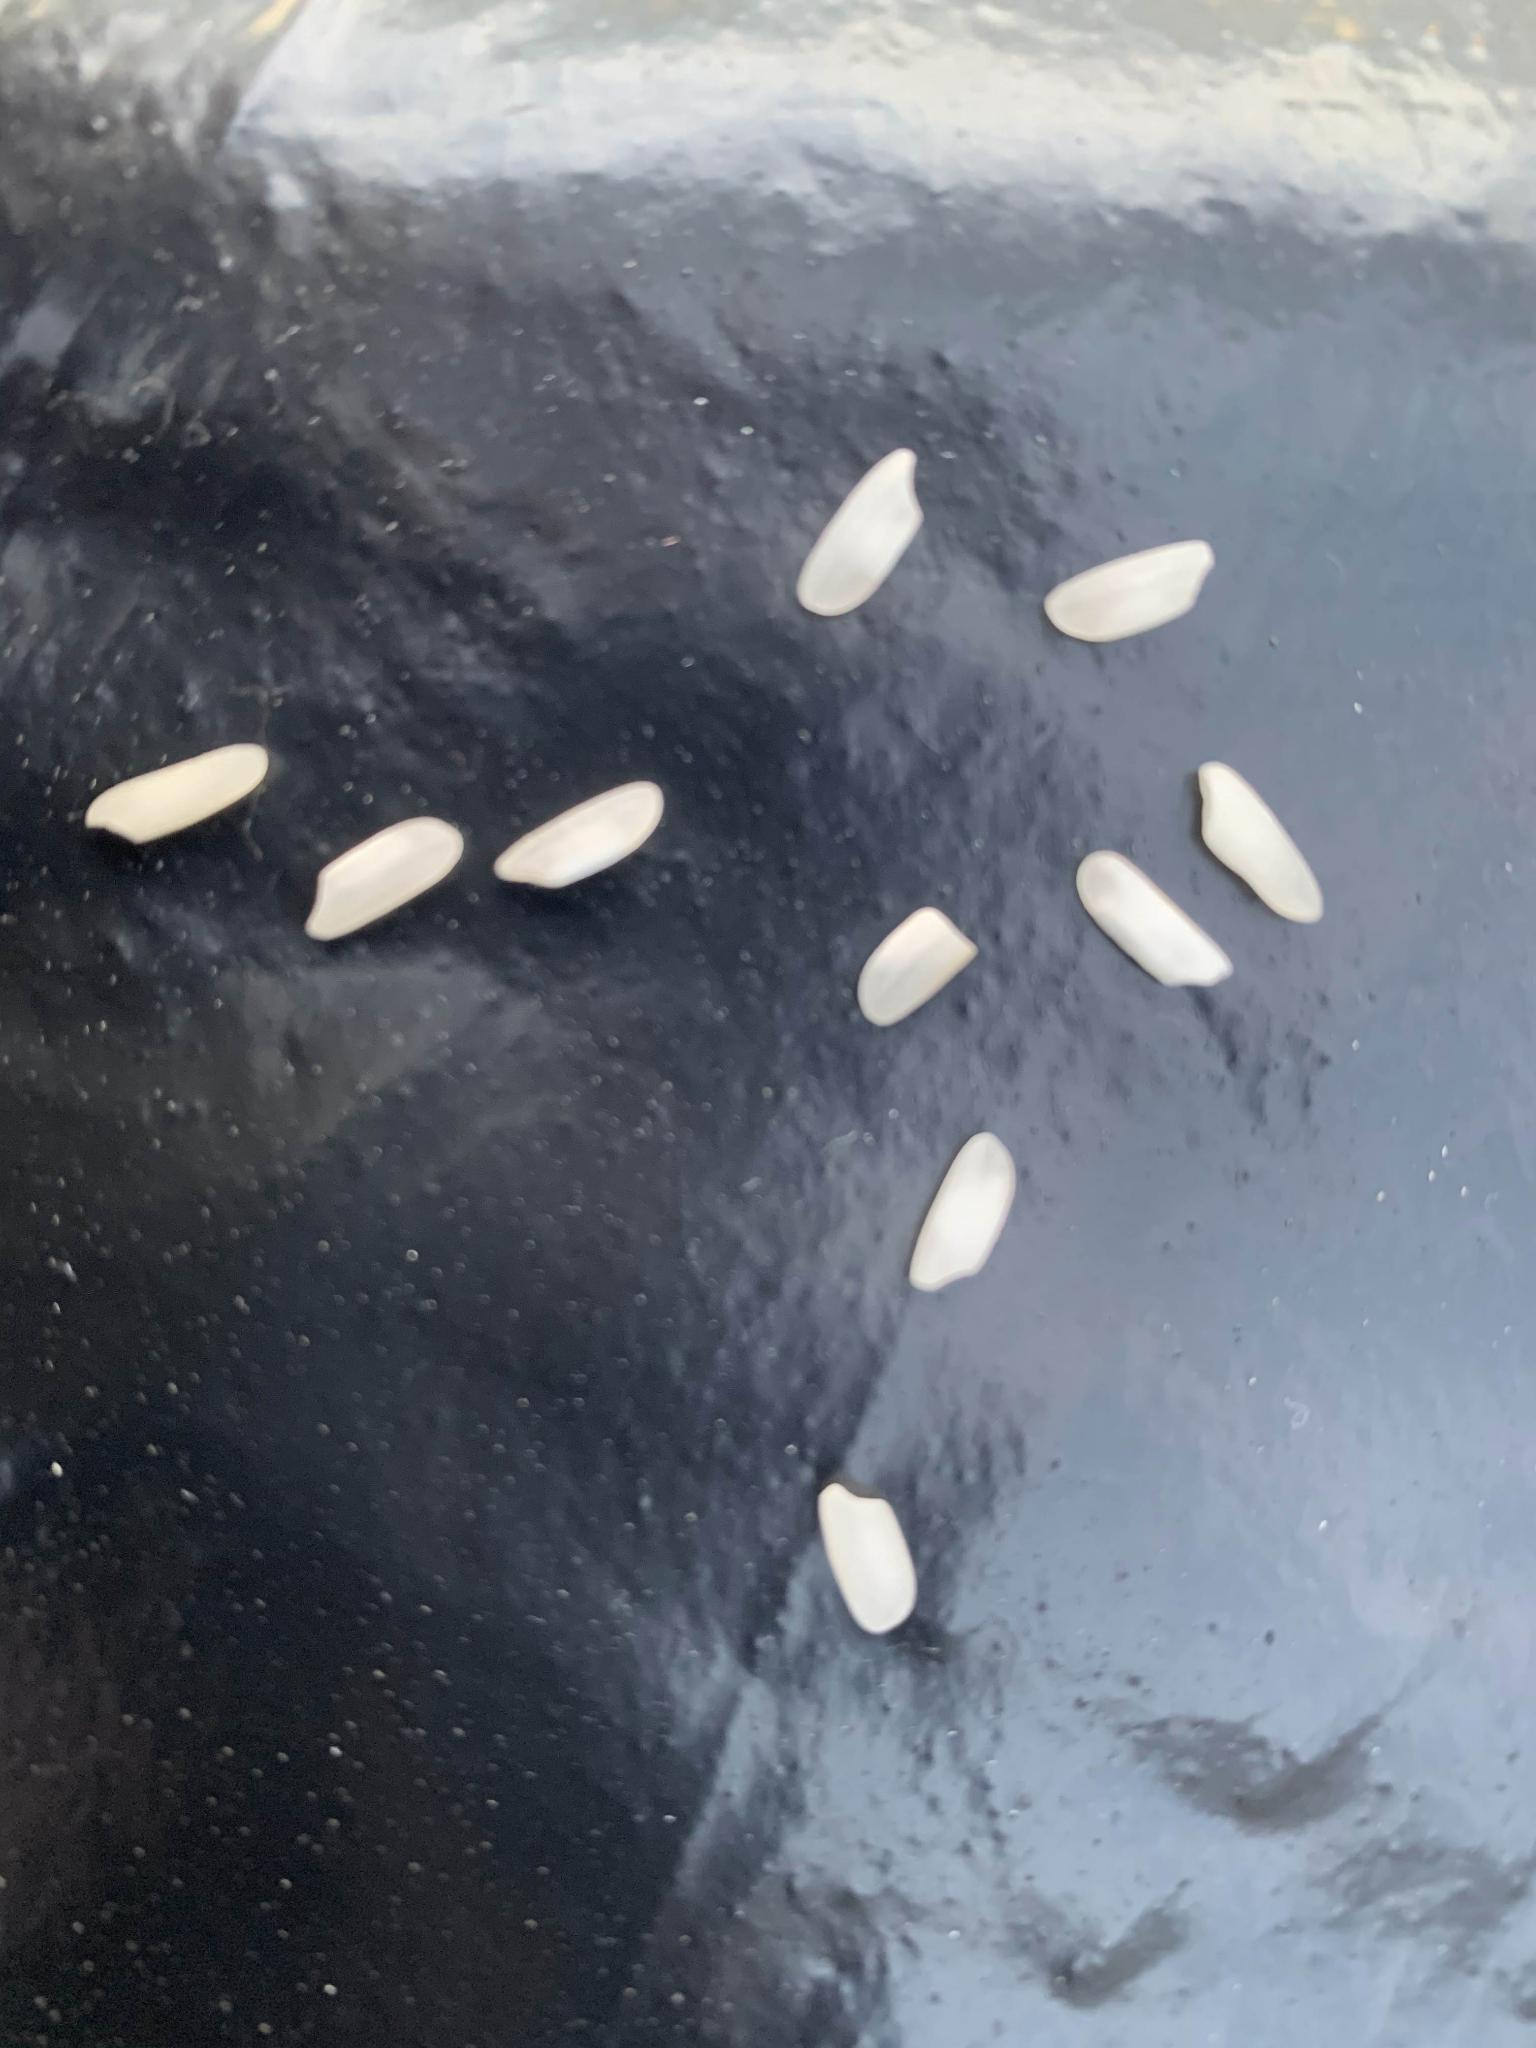rice: (794, 445, 923, 618), (1076, 851, 1234, 989), (1199, 763, 1325, 927), (302, 816, 466, 940), (86, 743, 269, 847), (492, 780, 665, 890), (1041, 537, 1215, 643), (908, 1132, 1020, 1295), (816, 1484, 921, 1635), (857, 905, 981, 1027)
